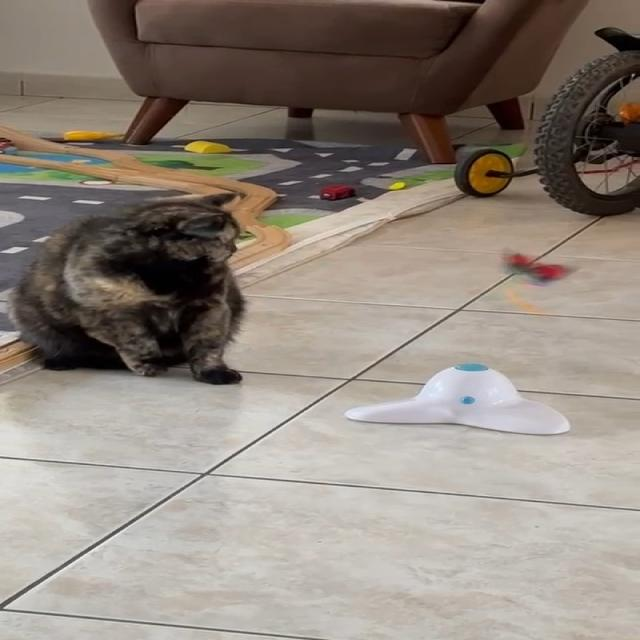authorized: (7, 191, 246, 385)
